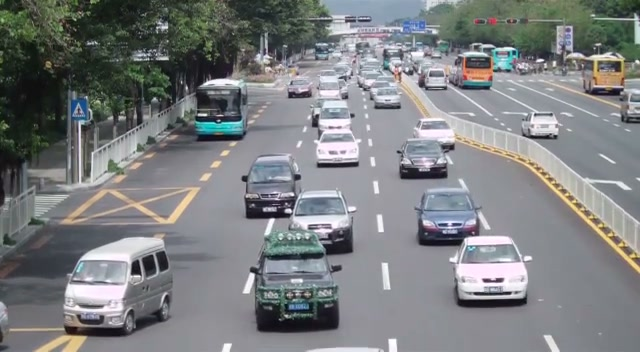bus: (194, 78, 249, 140), (581, 52, 626, 95), (450, 52, 494, 89), (492, 47, 518, 72)
car: (63, 236, 174, 336), (250, 228, 342, 331), (448, 235, 532, 307), (288, 189, 357, 253), (241, 153, 303, 219), (413, 187, 482, 246), (397, 138, 452, 179), (314, 129, 359, 168), (412, 118, 456, 152), (316, 105, 354, 135), (520, 111, 560, 139), (372, 85, 402, 109), (619, 90, 640, 123), (424, 68, 448, 91), (287, 77, 313, 98), (0, 300, 9, 345)
